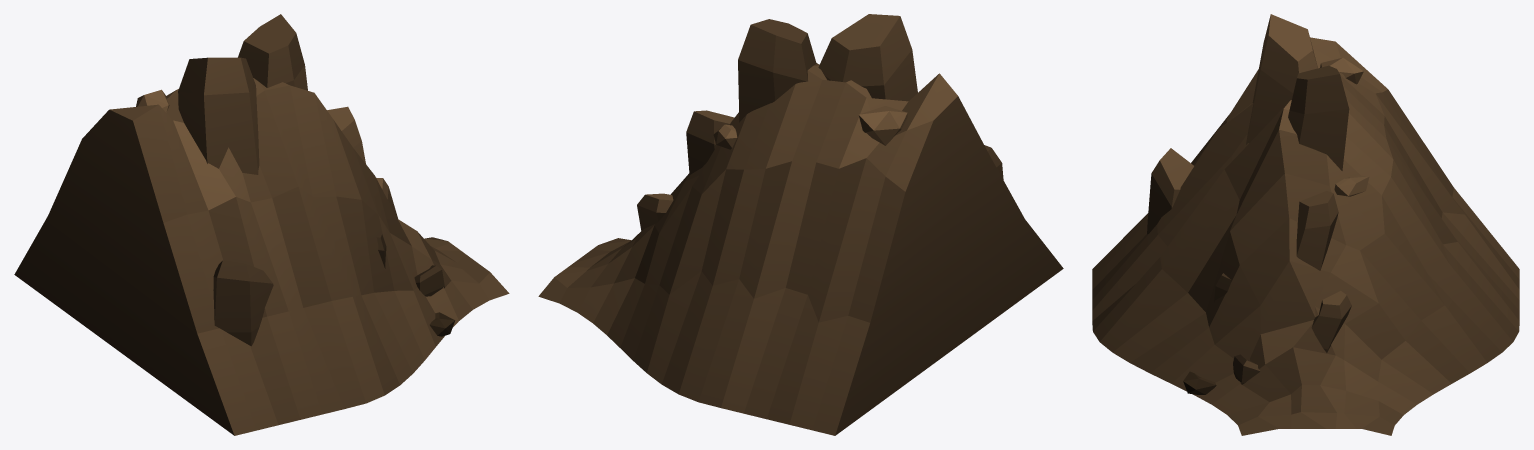
The model's file is cliff-exit.glb.
The picture shows the model from 3 angles, left to right: view 1: azimuth 30°, elevation 25°; view 2: azimuth 150°, elevation 25°; view 3: azimuth 270°, elevation 25°; orthographic projection. The views are drawn at different scales.
Parts seen in each view (by area): view 1: cliff-exit; view 2: cliff-exit; view 3: cliff-exit.
Part boxes in pixels (x1=…): cliff-exit: x1=14, y1=14, x2=509, y2=435; cliff-exit: x1=538, y1=14, x2=1063, y2=435; cliff-exit: x1=1092, y1=14, x2=1519, y2=435.
Size of the model in its own units: 3 by 2.42 by 3.25.
